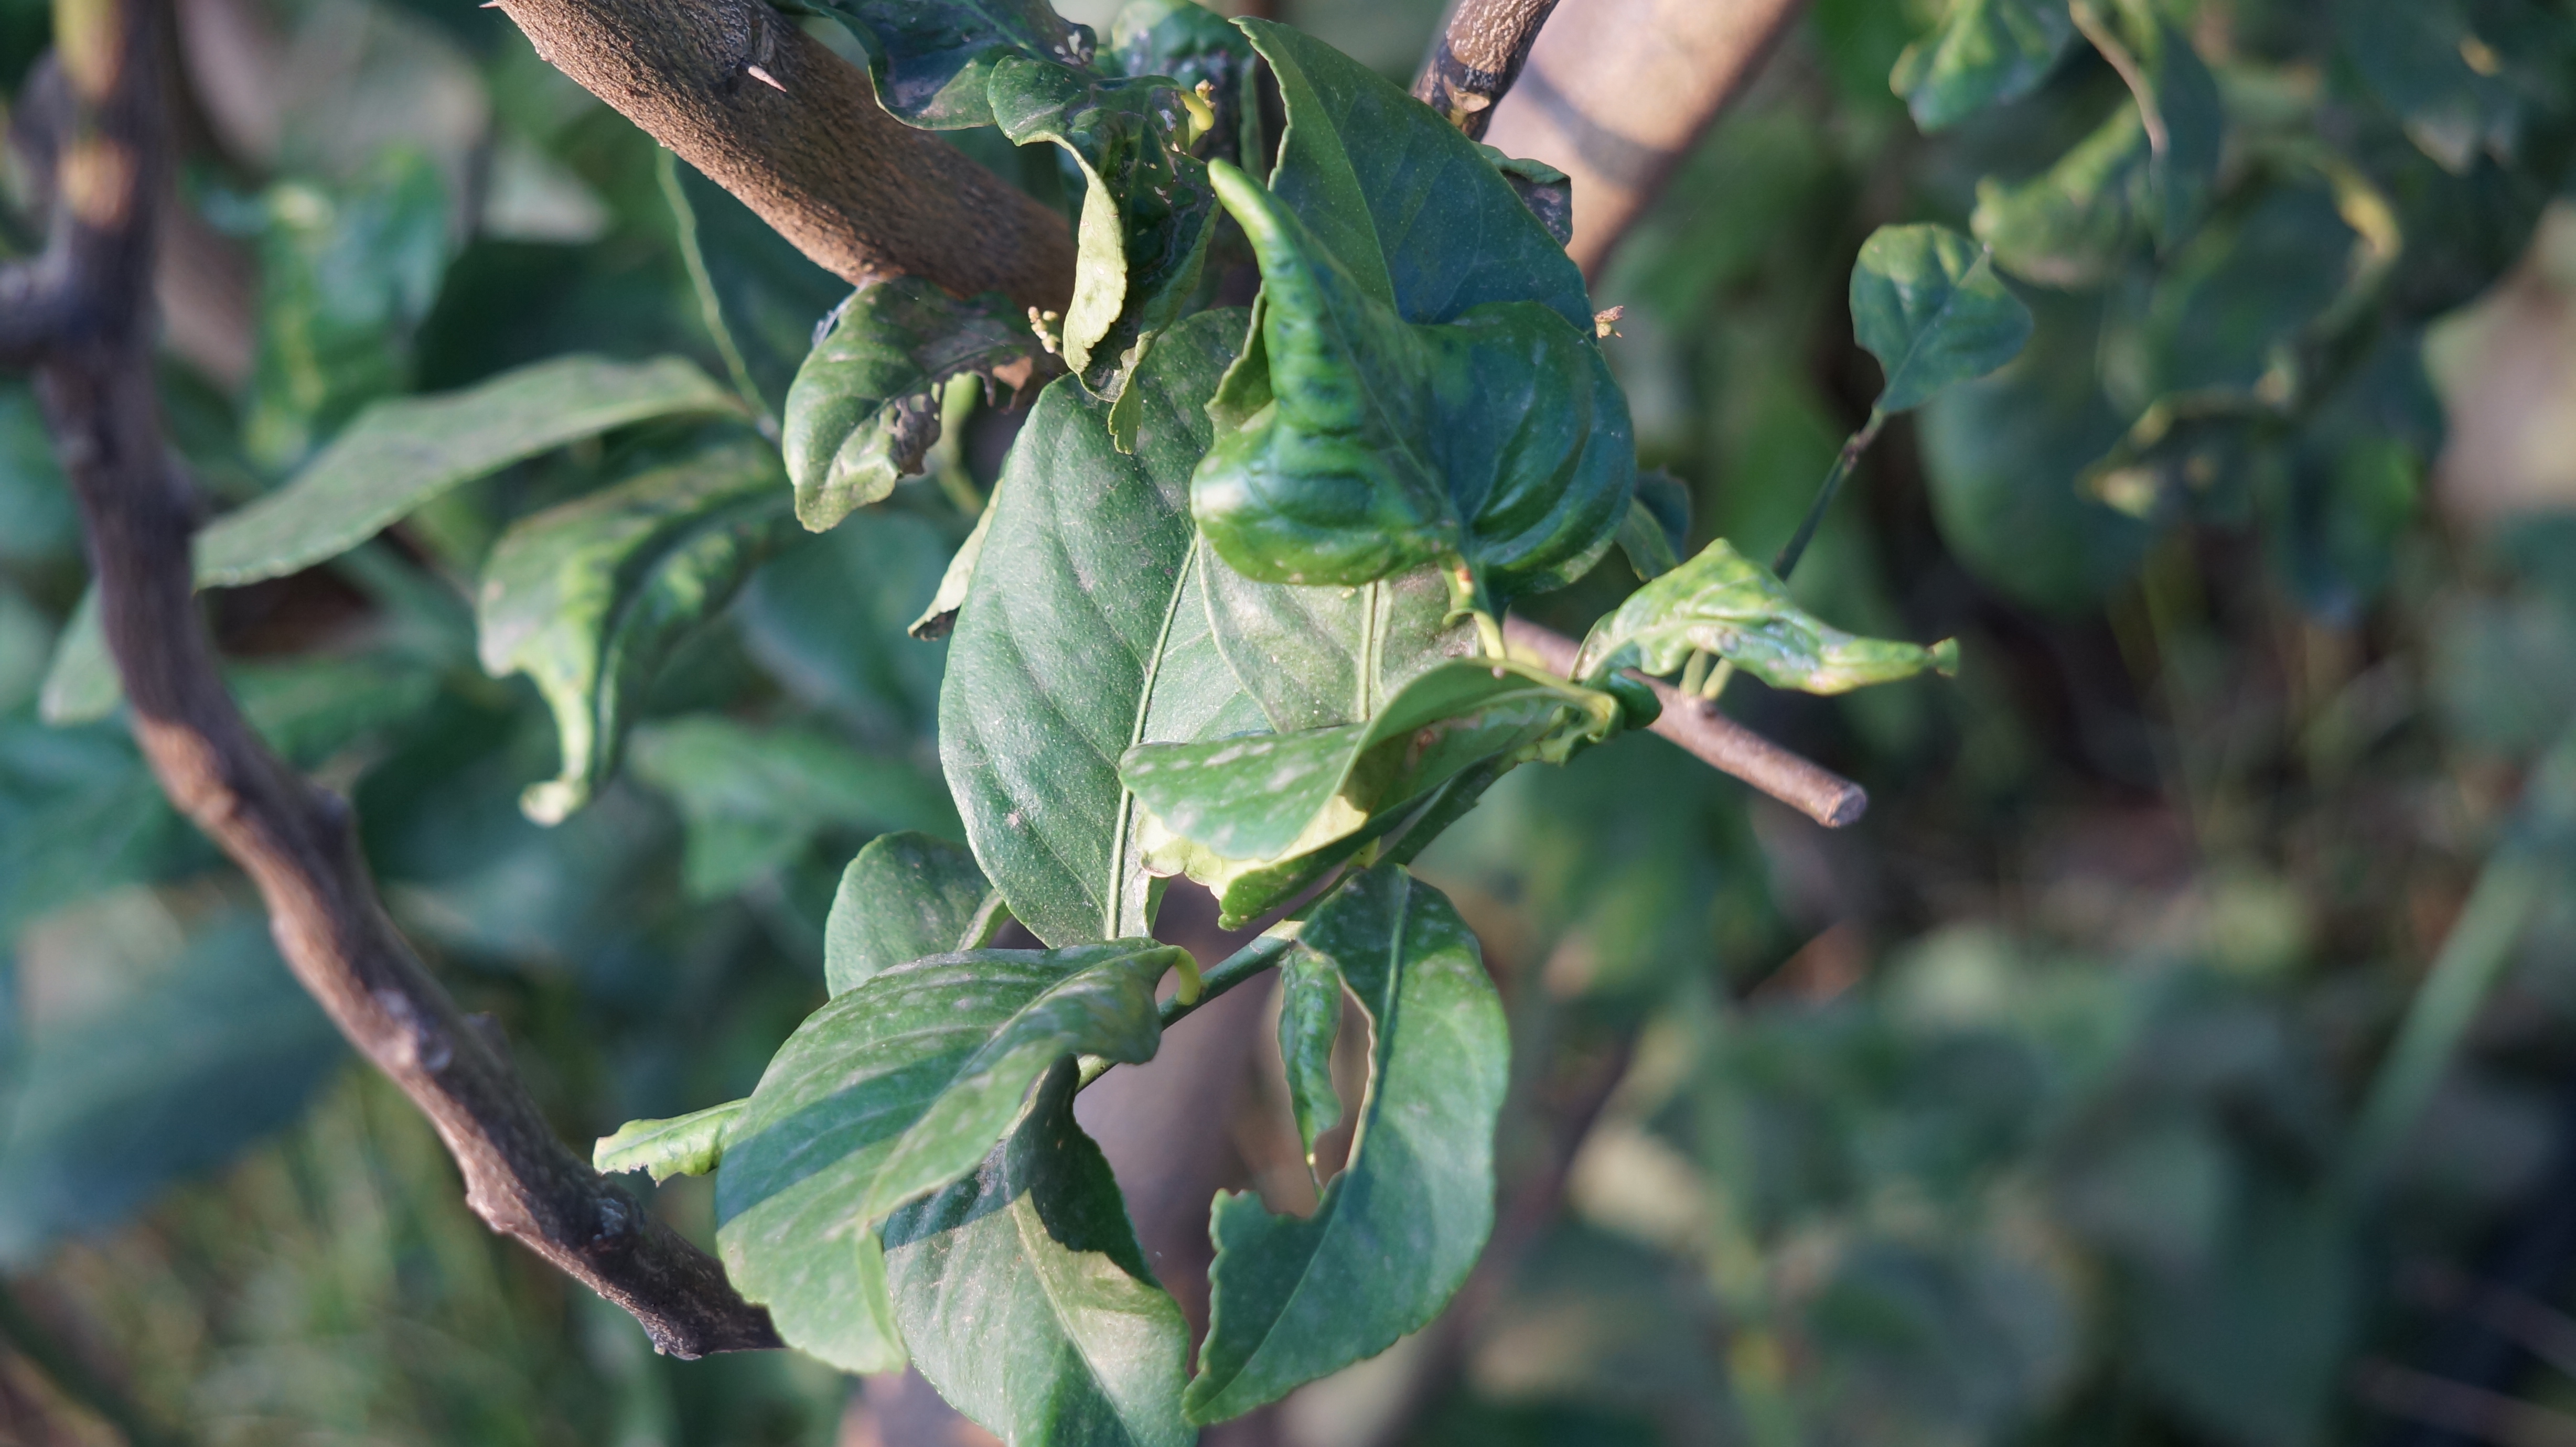curly: (1559, 527, 1990, 718)
